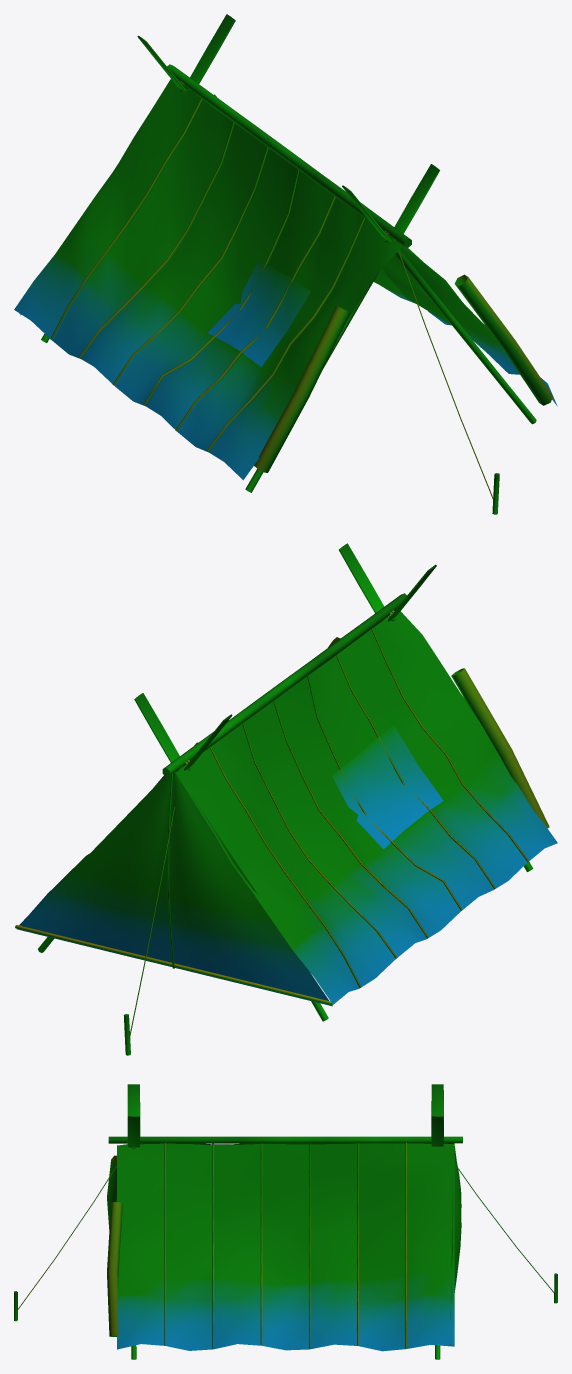
Rendered from camp_tent.glb.
3 renders of one model, top to bottom at view 1: azimuth 30°, elevation 25°; view 2: azimuth 150°, elevation 25°; view 3: azimuth 270°, elevation 25°, orthographic. The views are drawn at different scales.
Visible parts, largest first — view 1: camp_tent; view 2: camp_tent; view 3: camp_tent.
Part boxes in pixels (left/top/right/bottom): camp_tent: left=14, top=14, right=557, bottom=514; camp_tent: left=15, top=543, right=557, bottom=1055; camp_tent: left=14, top=1084, right=557, bottom=1359.
Size of what is drawn, in the model's own units: 3.31 by 2.76 by 6.45.
